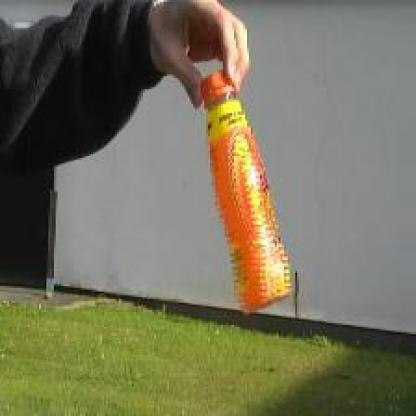other: (176, 69, 301, 316)
